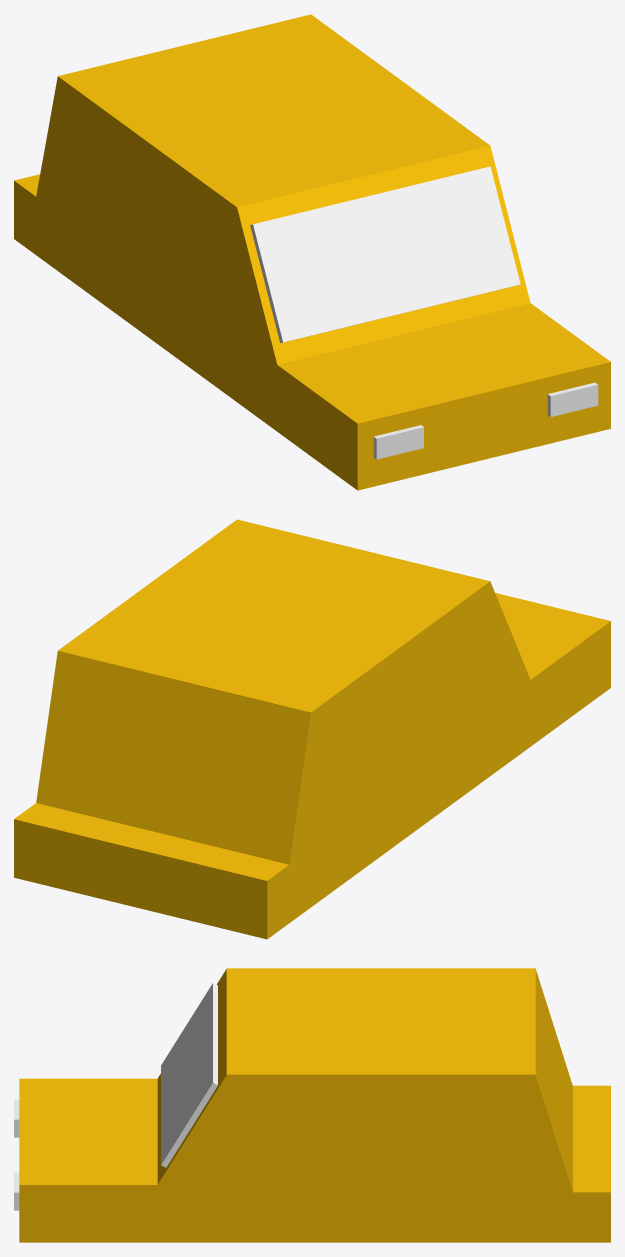
File: car1.fbx
3 renders of one model, top to bottom at view 1: azimuth 30°, elevation 25°; view 2: azimuth 150°, elevation 25°; view 3: azimuth 270°, elevation 25°, orthographic. The views are drawn at different scales.
Visible parts, largest first — view 1: Cube; view 2: Cube; view 3: Cube.
Part boxes in pixels (x1,y1,x2,y2): Cube: (14,14,610,490); Cube: (14,519,610,939); Cube: (14,968,610,1242).
Size of the model in its own units: 364 by 267 by 862.
